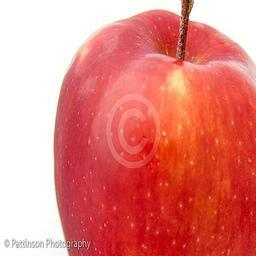apple: (49, 6, 256, 253)
